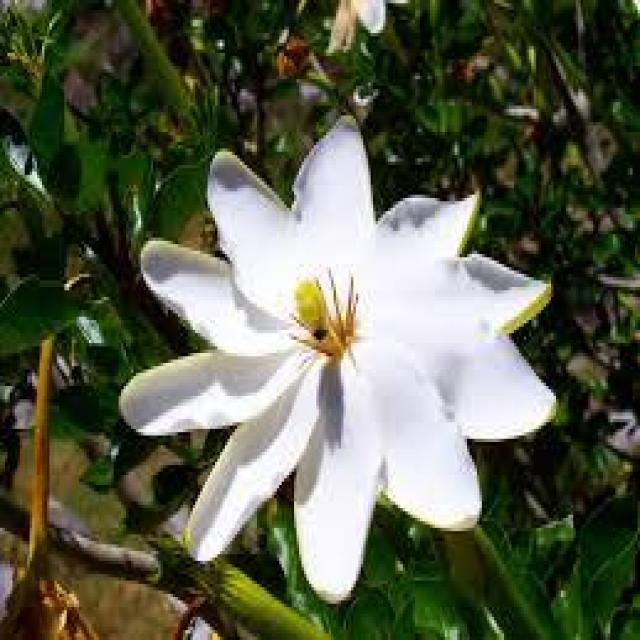organic waste: (113, 105, 562, 617)
